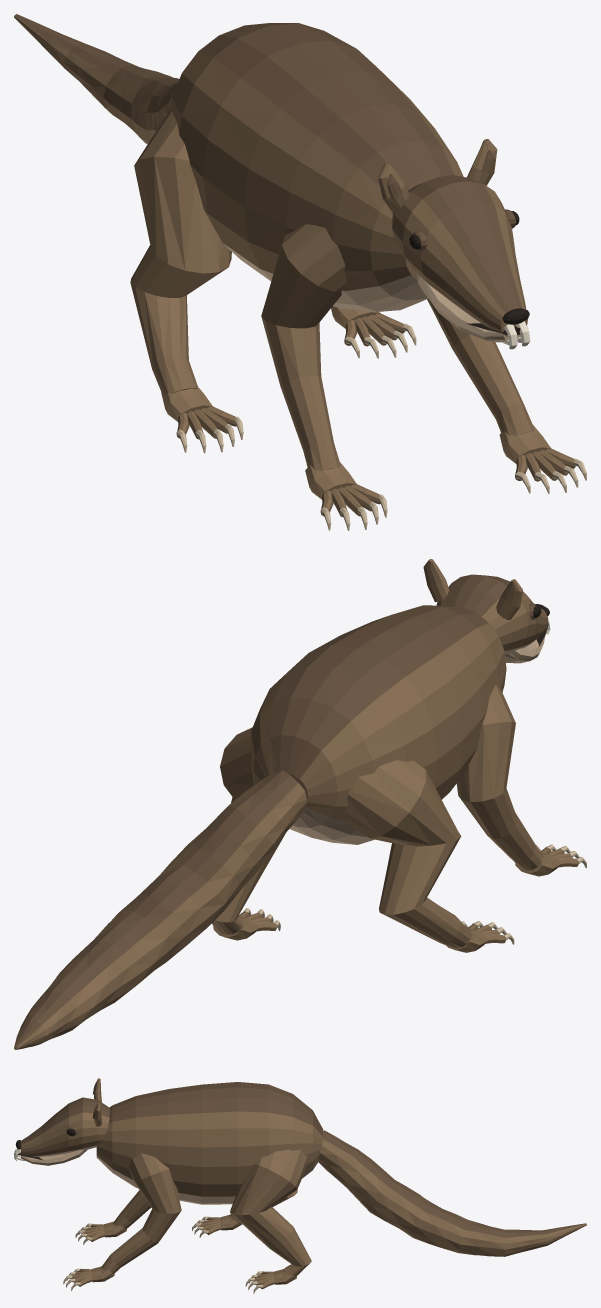
3 views of the same model, one above another, from view 1: azimuth 30°, elevation 25°; view 2: azimuth 150°, elevation 25°; view 3: azimuth 270°, elevation 25° (orthographic). The views are drawn at different scales.
Visible parts, largest first — view 1: Trunk and neck, Hindlimb L, Long low cranium and pointed rostrum, Forelimb L, Long furry tapering tail, Forelimb R, Fore foot R, Fore foot L, Hind foot L, Hind foot R, Mandible and chin, Small pinna L (+5 smaller); view 2: Trunk and neck, Long furry tapering tail, Hindlimb L, Forelimb L, Long low cranium and pointed rostrum, Hindlimb R, Fore foot L, Hind foot R, Hind foot L, Small pinna L, Small pinna R; view 3: Trunk and neck, Long furry tapering tail, Hindlimb R, Forelimb R, Long low cranium and pointed rostrum, Forelimb L, Hind foot R, Fore foot L, Fore foot R, Mandible and chin, Hind foot L.
Boxes of the visible parts, box(x1,y1,x2,y2) form: Trunk and neck: box(170, 23, 463, 311); Hindlimb L: box(130, 109, 231, 393); Long low cranium and pointed rostrum: box(391, 175, 527, 336); Forelimb L: box(261, 224, 346, 470); Long furry tapering tail: box(14, 14, 179, 144); Forelimb R: box(427, 298, 534, 435); Fore foot R: box(499, 425, 575, 481); Fore foot L: box(305, 462, 380, 516); Hind foot L: box(161, 387, 236, 439); Hind foot R: box(331, 306, 404, 346); Mandible and chin: box(417, 273, 520, 342); Small pinna L: box(378, 163, 408, 213); Trunk and neck: box(250, 605, 506, 844); Long furry tapering tail: box(14, 770, 306, 1049); Hindlimb L: box(344, 760, 471, 948); Forelimb L: box(456, 685, 543, 870); Long low cranium and pointed rostrum: box(436, 574, 548, 654); Hindlimb R: box(211, 727, 285, 934); Fore foot L: box(515, 847, 578, 876); Hind foot R: box(213, 911, 276, 940); Hind foot L: box(446, 924, 505, 952); Small pinna L: box(496, 579, 522, 619); Small pinna R: box(423, 559, 449, 602); Trunk and neck: box(96, 1082, 323, 1204); Long furry tapering tail: box(318, 1130, 586, 1256); Hindlimb R: box(230, 1149, 311, 1276); Forelimb R: box(102, 1153, 181, 1274); Long low cranium and pointed rostrum: box(21, 1097, 109, 1156); Forelimb L: box(114, 1190, 150, 1229); Hind foot R: box(253, 1268, 296, 1289); Fore foot L: box(83, 1221, 126, 1241); Fore foot R: box(71, 1266, 114, 1286); Mandible and chin: box(21, 1149, 87, 1165); Hind foot L: box(199, 1214, 242, 1234).
Size of the model in its own units: 0.191 by 0.2211 by 0.66.
